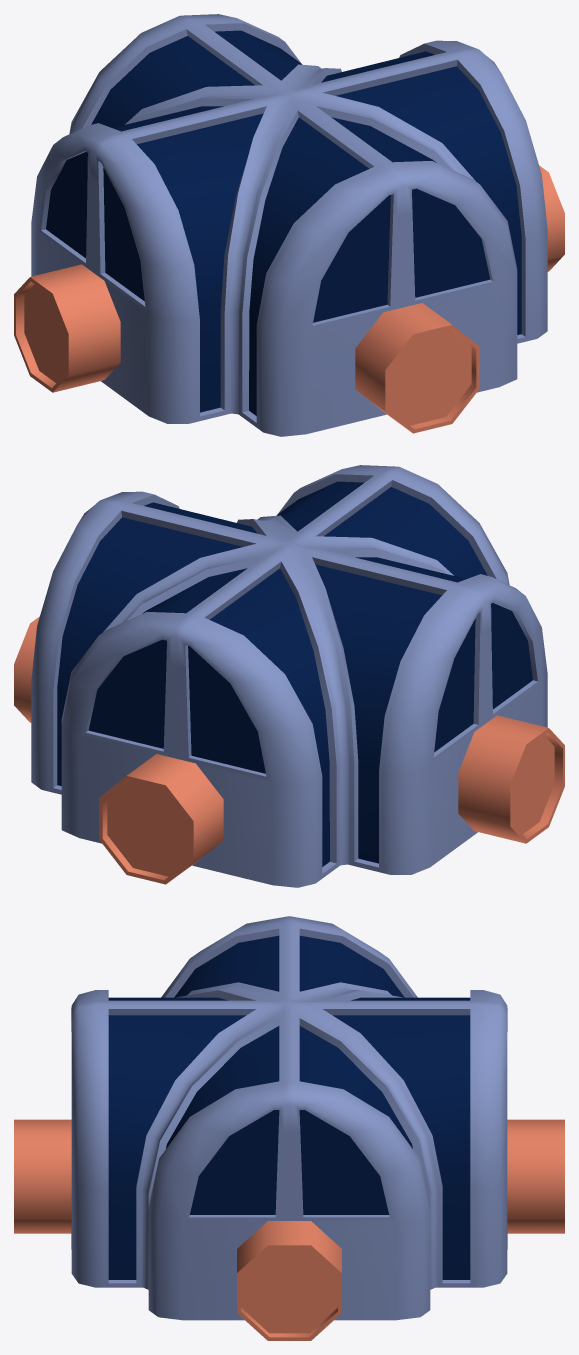
The model's file is Greenhouse.fbx.
3 views of the same model, one above another, from view 1: azimuth 30°, elevation 25°; view 2: azimuth 150°, elevation 25°; view 3: azimuth 270°, elevation 25° (orthographic). The views are drawn at different scales.
Parts seen in each view (by area): view 1: Greenhouse.001; view 2: Greenhouse.001; view 3: Greenhouse.001.
Part boxes in pixels (box(x1,y1,x2,y2)): Greenhouse.001: box(14, 14, 564, 436); Greenhouse.001: box(14, 465, 564, 887); Greenhouse.001: box(14, 916, 564, 1340).
Size of the model in its own units: 1012 by 456 by 1012.
